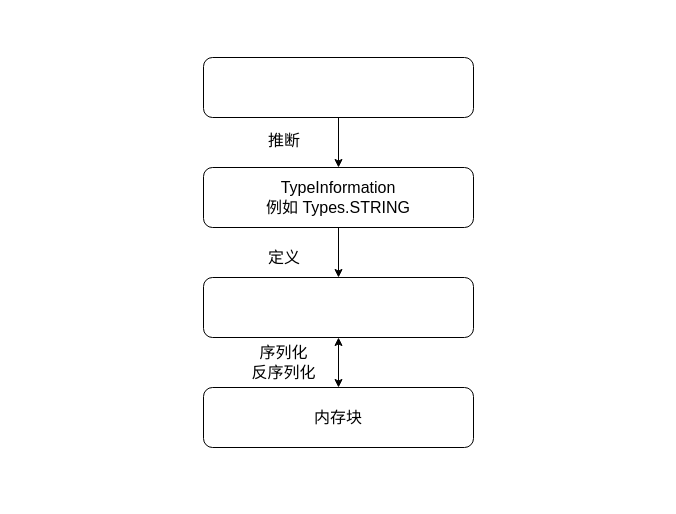
The diagram is 676 pixels wide and 514 high, and some of its shapes have lost their labels. The centre of each missing label's shape, as x and y in pixels:
"TypeSerializer 例如 StringSerializer" goes at [338,307].
"用户定义的数据类型 例如 String" goes at [338,87].
